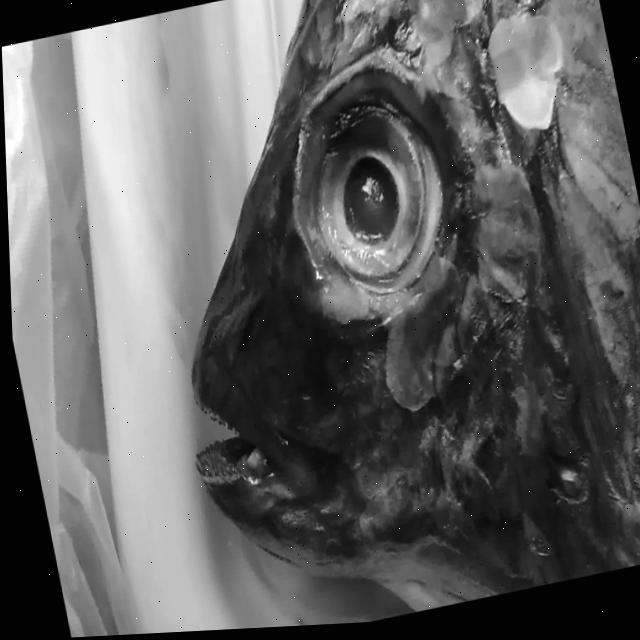Non-Fresh: (170, 21, 589, 622)
